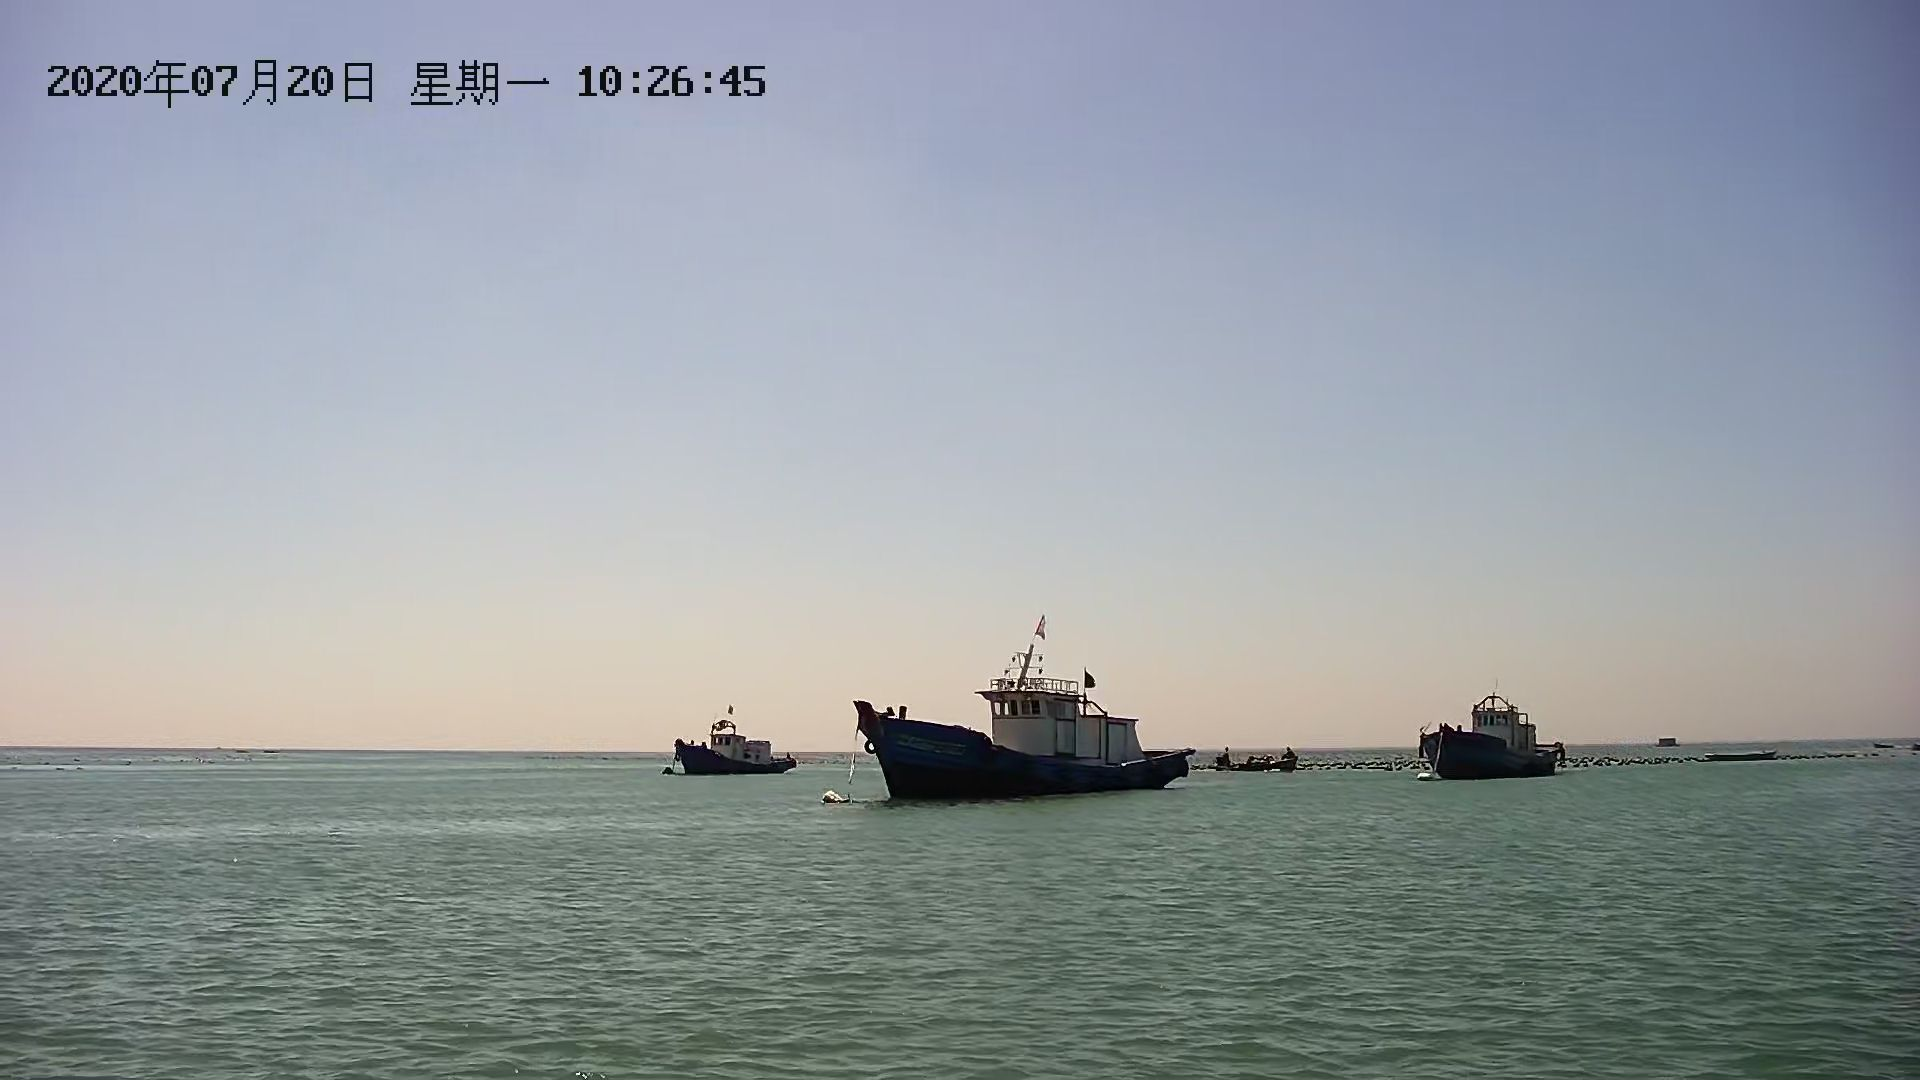rubbish: (808, 783, 843, 811)
ship: (852, 663, 1193, 803), (1422, 692, 1563, 785), (667, 720, 799, 779)
